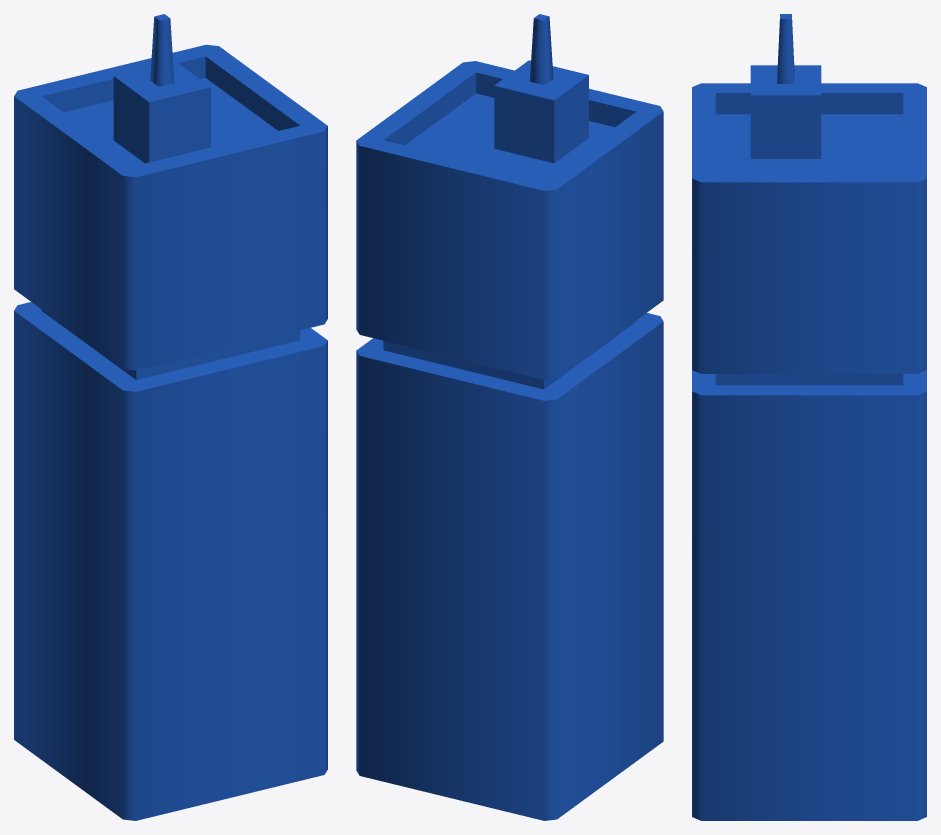
File: low-detail-building-d.glb
The picture shows the model from 3 angles, left to right: view 1: azimuth 30°, elevation 25°; view 2: azimuth 150°, elevation 25°; view 3: azimuth 270°, elevation 25°; orthographic projection. The views are drawn at different scales.
Parts seen in each view (by area): view 1: low-detail-building-d; view 2: low-detail-building-d; view 3: low-detail-building-d.
Boxes of the visible parts, x1,y1,x2,y2 form: low-detail-building-d: (14, 14, 327, 820); low-detail-building-d: (356, 14, 663, 820); low-detail-building-d: (692, 14, 926, 820).
Bounding box in the file's own units: 0.5 × 1.75 × 0.5.
